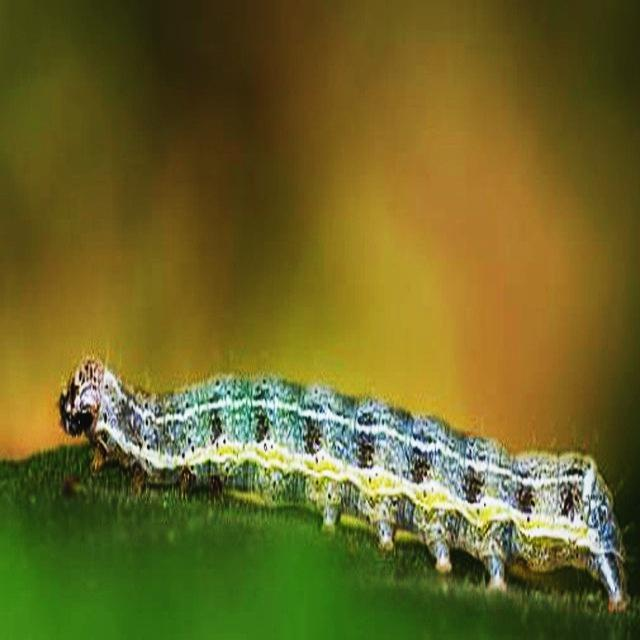Plaga: (63, 355, 630, 615)
